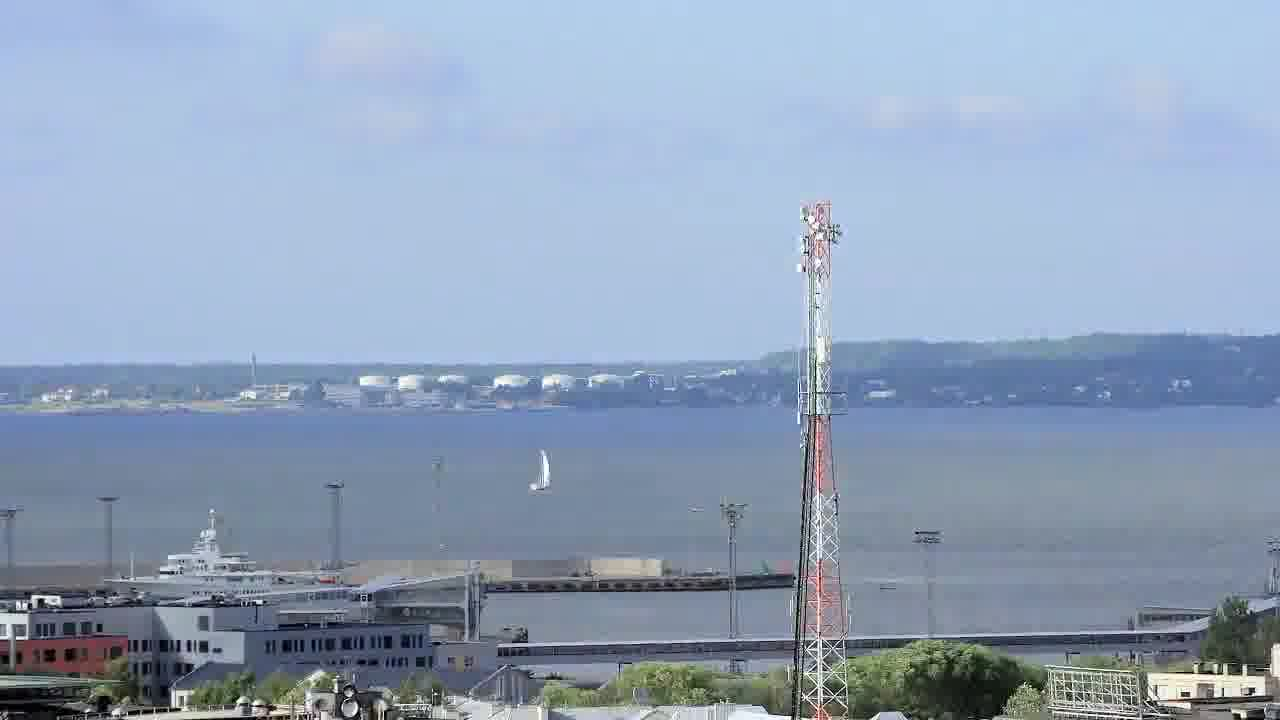type-2: (493, 434, 575, 512)
type-3: (84, 515, 355, 603)
